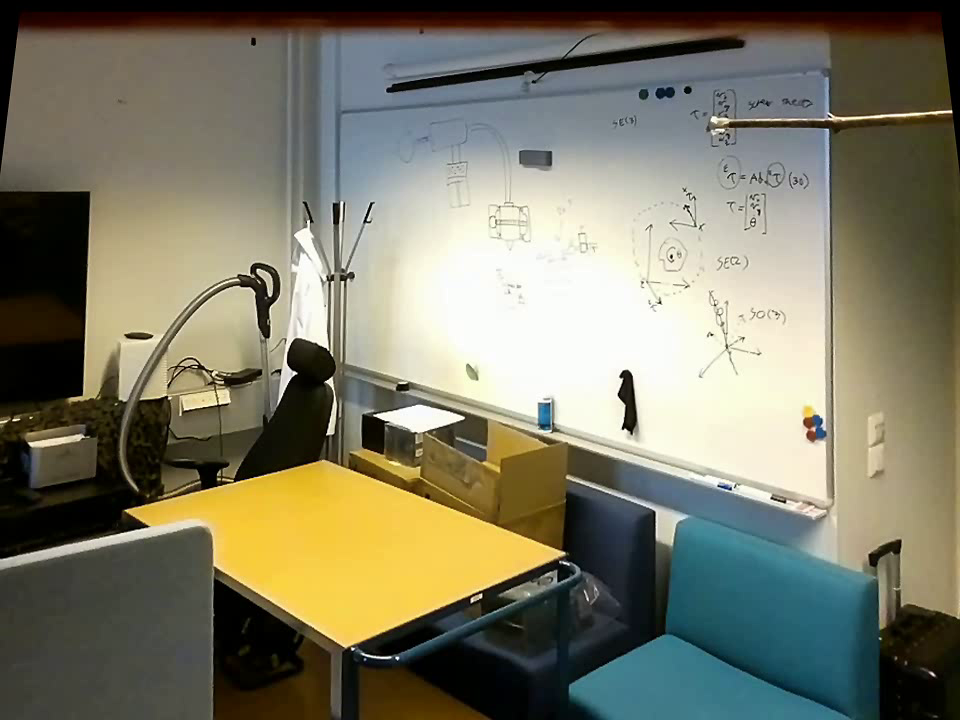aluminum_frame: (347, 358, 833, 525), (339, 63, 834, 122), (812, 70, 842, 507), (329, 107, 346, 202)
branch: (724, 100, 953, 137)
